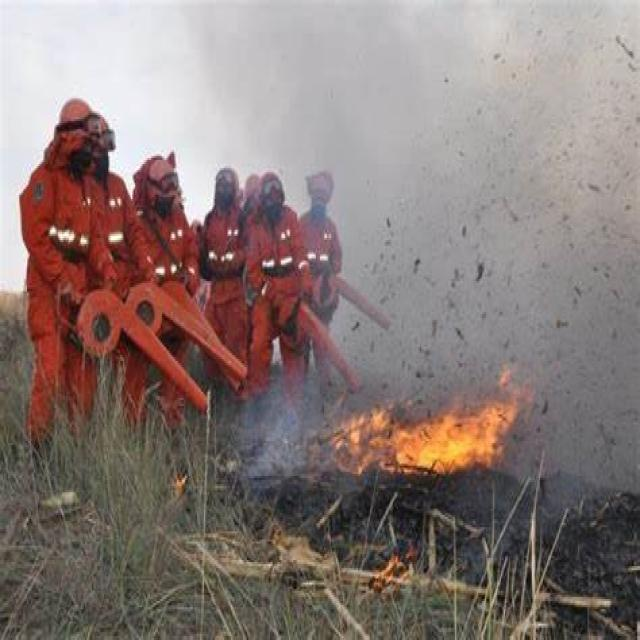Fire: (326, 357, 534, 476), (368, 546, 421, 595)
Smoke: (342, 2, 640, 377), (532, 383, 640, 532), (246, 385, 334, 502)
